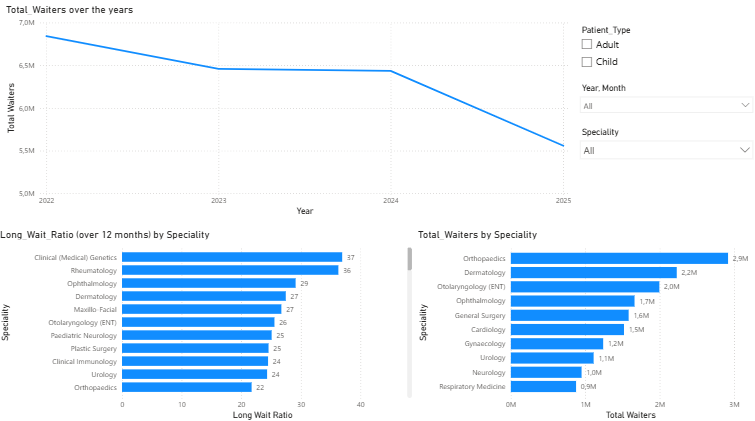

What the dashboard file says about the page in this screenshot:
{"tool":"powerbi","page":{"name":"Dashboard","canvas":[1280,720],"ordinal":3},"visuals":[{"type":"barChart","title":"Total_Waiters by Speciality","fields":{"Category":["Outpatient_Specialty_Files.Speciality"],"Y":["Sum(Outpatient_Specialty_Files.Total_Waiters)"]},"box":[702.2,393.1,577.8,327.6],"z":0},{"type":"lineChart","title":"Total_Waiters over the years","fields":{"Category":["Outpatient_Specialty_Files.Date.Variation.Date Hierarchy.Year","Outpatient_Specialty_Files.Date.Variation.Date Hierarchy.Quarter"],"Y":["Sum(Outpatient_Specialty_Files.Total_Waiters)"]},"box":[10.1,15.1,959.2,362.8],"z":1},{"type":"slicer","fields":{"Values":["Outpatient_Specialty_Files.Speciality"]},"box":[969.2,218.4,310.8,75.6],"z":2},{"type":"barChart","title":"Long_Wait_Ratio (over 12 months) by Speciality","fields":{"Category":["Outpatient_Specialty_Files.Speciality"],"Y":["Sum(Outpatient_Specialty_Files.Long_Wait_Ratio)"]},"box":[0,393.1,702.2,327.6],"z":3},{"type":"slicer","fields":{"Values":["Outpatient_Specialty_Files.Patient_Type"]},"box":[969.2,47,310.8,97.4],"z":4},{"type":"slicer","fields":{"Values":["Outpatient_Specialty_Files.Date.Variation.Date Hierarchy.Year","Outpatient_Specialty_Files.Date.Variation.Date Hierarchy.Month"]},"box":[969.2,144.5,310.8,73.9],"z":5}]}

Visuals, with their boxes in screenshot pixels (x1, y1, x2, y2), scaled from the page's 1280x720 canvas onto the 755x421 screenshot:
"Total_Waiters by Speciality" barChart: 414:230:754:420
"Total_Waiters over the years" lineChart: 6:9:572:221
slicer - Outpatient_Specialty_Files.Speciality: 572:128:754:172
"Long_Wait_Ratio (over 12 months) by Speciality" barChart: 0:230:414:420
slicer - Outpatient_Specialty_Files.Patient_Type: 572:27:754:84
slicer - Outpatient_Specialty_Files.Date.Variation.Date Hierarchy.Year x Outpatient_Specialty_Files.Date.Variation.Date Hierarchy.Month: 572:84:754:128
